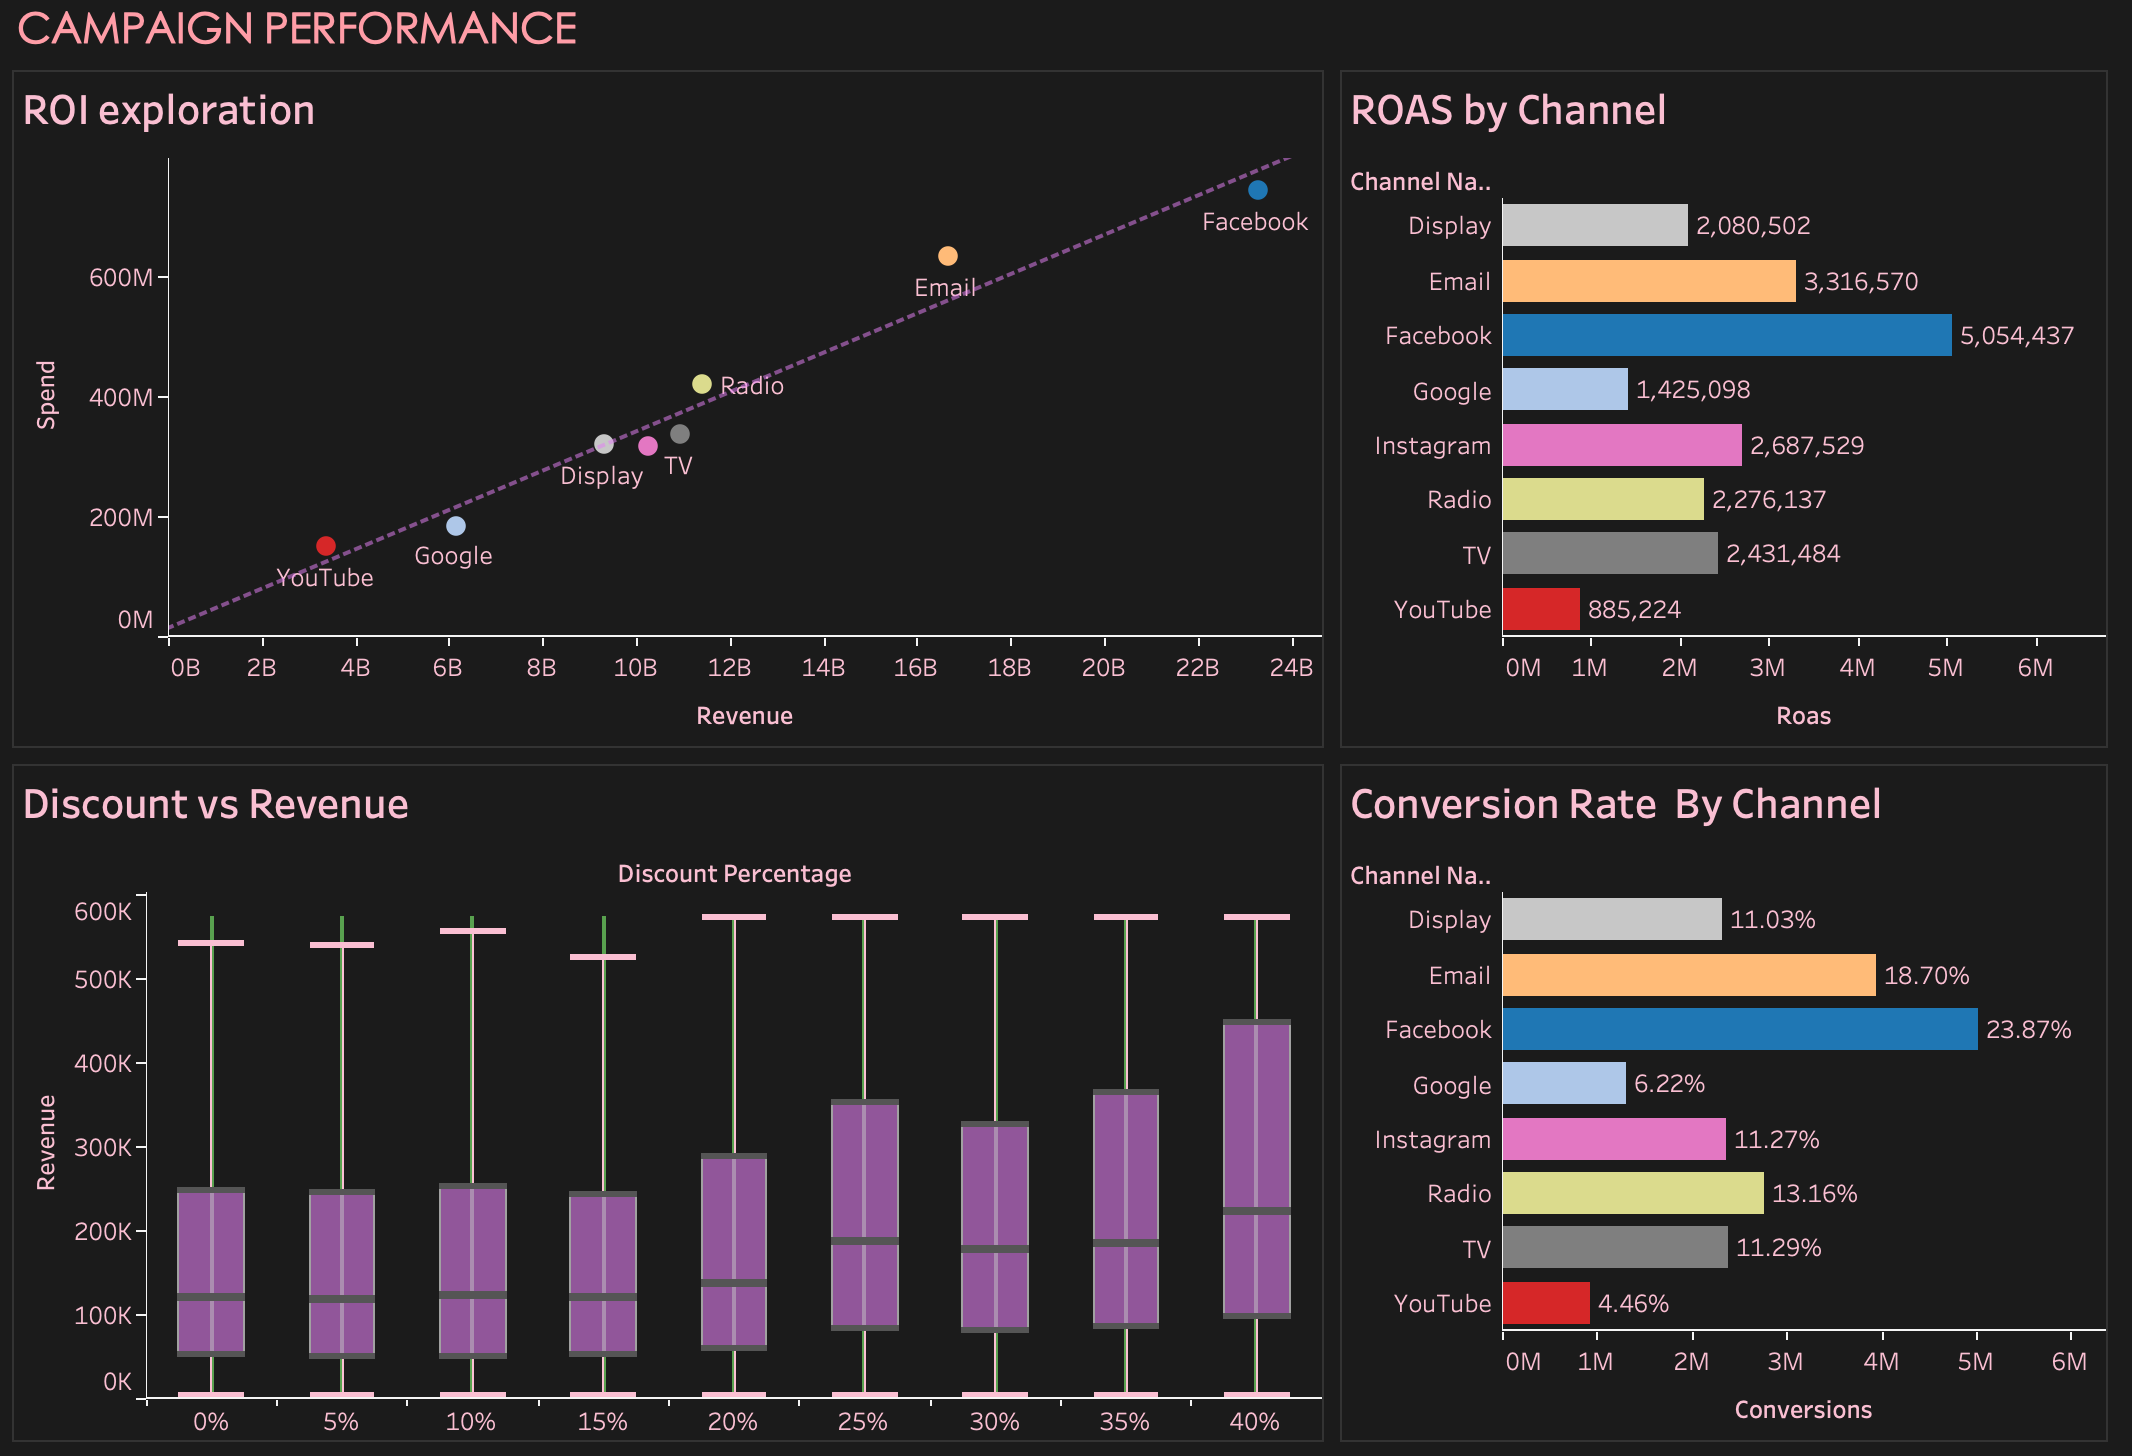

What the dashboard file says about the page in this screenshot:
{"tool":"tableau","page":{"name":"Campaign Performance","canvas":[1000,1000],"units":"permille","ordinal":0},"visuals":[{"type":"title","box":[7.5,10.8,985.1,43.1]},{"type":"worksheet","title":"ROI by Channel","mark":"Automatic","rows":["spend"],"cols":["revenue"],"box":[7.5,53.9,619.4,467.6]},{"type":"worksheet","title":"ROAS by Channel","mark":"Automatic","rows":["channel_name"],"cols":["ROAS"],"box":[626.8,53.9,365.7,467.6]},{"type":"worksheet","title":"Discount vs Revenue","mark":"Circle","rows":["revenue"],"cols":["discount_percentage"],"box":[7.5,521.5,619.4,467.7]},{"type":"worksheet","title":"Conversion Rate  By Channel","mark":"Automatic","rows":["channel_name"],"cols":["conversions"],"box":[626.8,521.5,365.7,467.7]}]}

Visuals, with their boxes on the dashboard's canvas, which has no fixed pixel size, in thousandths of its width and height (x1, y1, x2, y2). These are canvas units, not pixel positions in the 2132x1456 screenshot, which may show the page scaled, cropped or inside an application window:
title: [8, 11, 993, 54]
"ROI by Channel" worksheet: [8, 54, 627, 522]
"ROAS by Channel" worksheet: [627, 54, 992, 522]
"Discount vs Revenue" worksheet (Circle marks): [8, 522, 627, 989]
"Conversion Rate  By Channel" worksheet: [627, 522, 992, 989]
